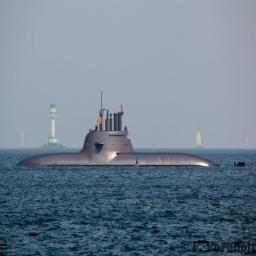submarine: (18, 99, 241, 172)
